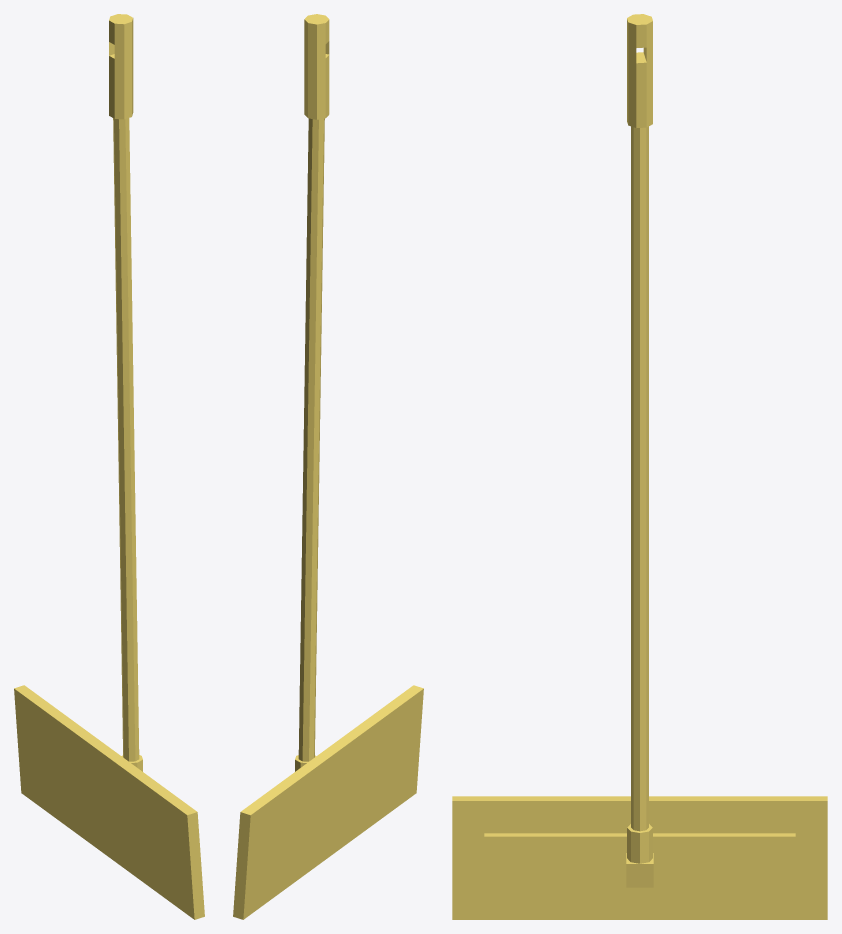
File: Laundry_mop.fbx
The picture shows the model from 3 angles, left to right: view 1: azimuth 30°, elevation 25°; view 2: azimuth 150°, elevation 25°; view 3: azimuth 270°, elevation 25°; orthographic projection. The views are drawn at different scales.
Parts seen in each view (by area): view 1: Laundry_mop; view 2: Laundry_mop; view 3: Laundry_mop.
Boxes of the visible parts, x1,y1,x2,y2 form: Laundry_mop: (14,14,204,919); Laundry_mop: (233,14,423,919); Laundry_mop: (452,14,827,919).
Bounding box in the file's own units: 10.13 × 195 × 73.38.
